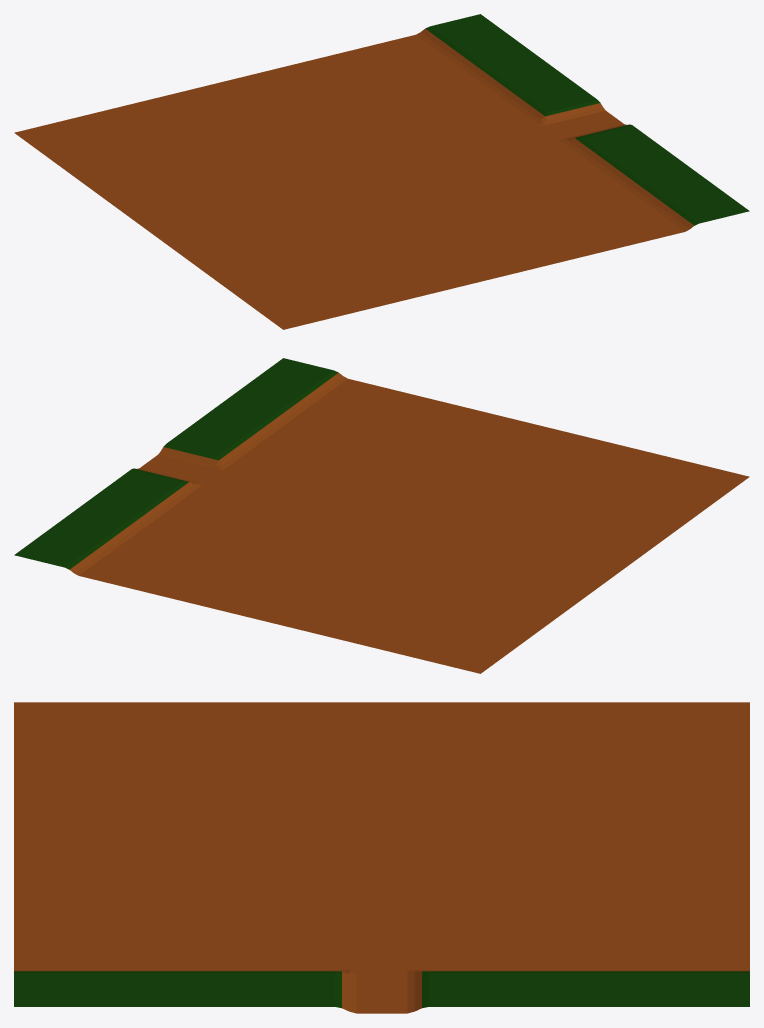
The model's file is Terrain_Part_Plane_16.fbx.
The picture shows the model from 3 angles, top to bottom: view 1: azimuth 30°, elevation 25°; view 2: azimuth 150°, elevation 25°; view 3: azimuth 270°, elevation 25°; orthographic projection. The views are drawn at different scales.
Parts seen in each view (by area): view 1: Terrain_Part_Plane_16; view 2: Terrain_Part_Plane_16; view 3: Terrain_Part_Plane_16.
Boxes of the visible parts, x1=… form: Terrain_Part_Plane_16: x1=14, y1=14, x2=749, y2=329; Terrain_Part_Plane_16: x1=14, y1=358, x2=749, y2=673; Terrain_Part_Plane_16: x1=14, y1=702, x2=749, y2=1013.
Bounding box in the file's own units: 2000 × 20 × 2000.
